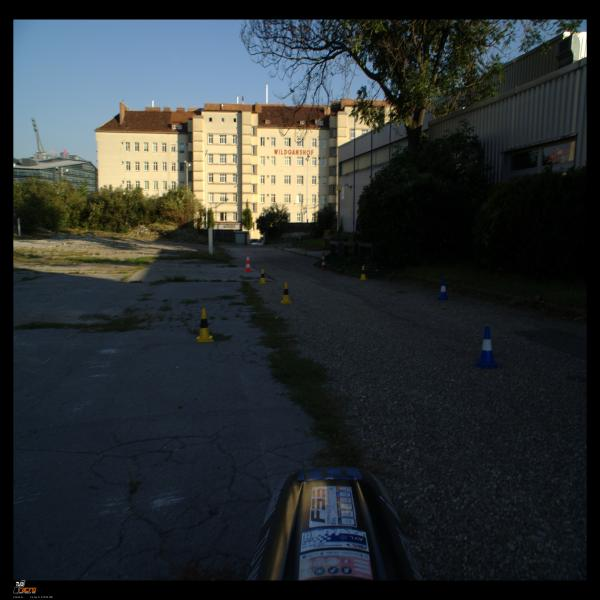blue_cone: (472, 326, 501, 369), (437, 280, 450, 300)
large_orange_cone: (243, 253, 253, 272), (320, 252, 328, 270)
yellow_cone: (195, 308, 214, 342), (280, 282, 292, 304), (258, 268, 267, 284), (359, 266, 368, 280)
